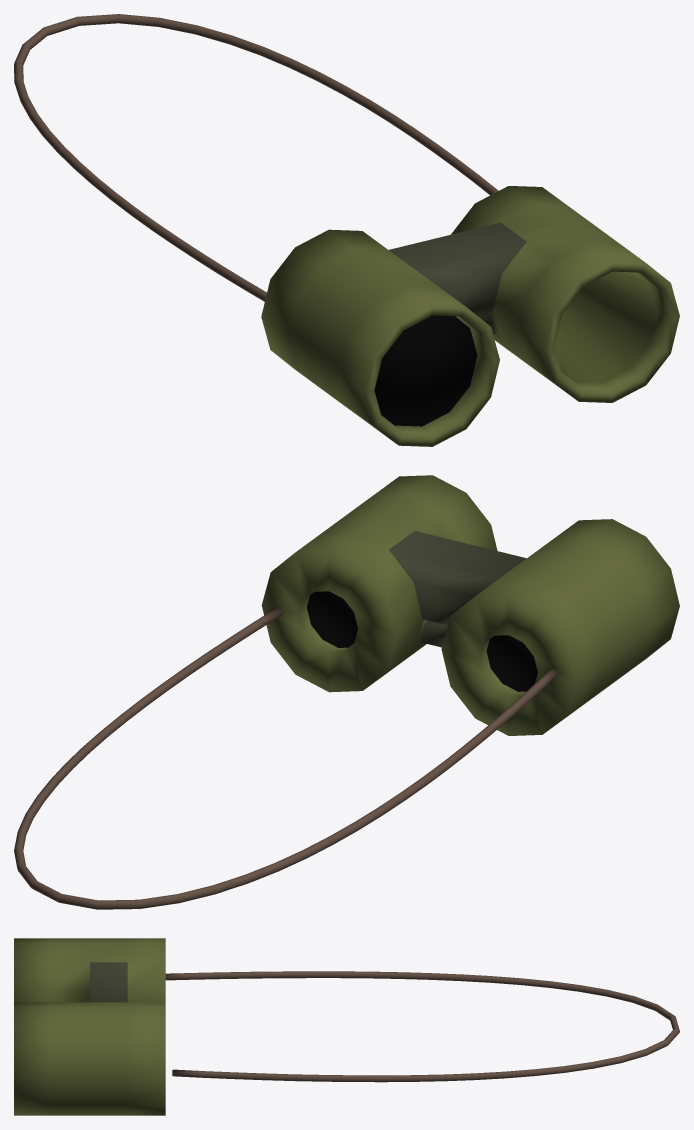
File: Binoculars.fbx
The picture shows the model from 3 angles, top to bottom: view 1: azimuth 30°, elevation 25°; view 2: azimuth 150°, elevation 25°; view 3: azimuth 270°, elevation 25°; orthographic projection. The views are drawn at different scales.
Parts seen in each view (by area): view 1: Binoculars, String; view 2: Binoculars, String; view 3: Binoculars, String.
Boxes of the visible parts, x1,y1,x2,y2 form: Binoculars: [261, 186, 679, 446]; String: [14, 14, 498, 301]; Binoculars: [261, 475, 679, 735]; String: [14, 607, 556, 909]; Binoculars: [14, 938, 165, 1115]; String: [165, 971, 679, 1082].
Bounding box in the file's own units: 350 × 150 × 878.
